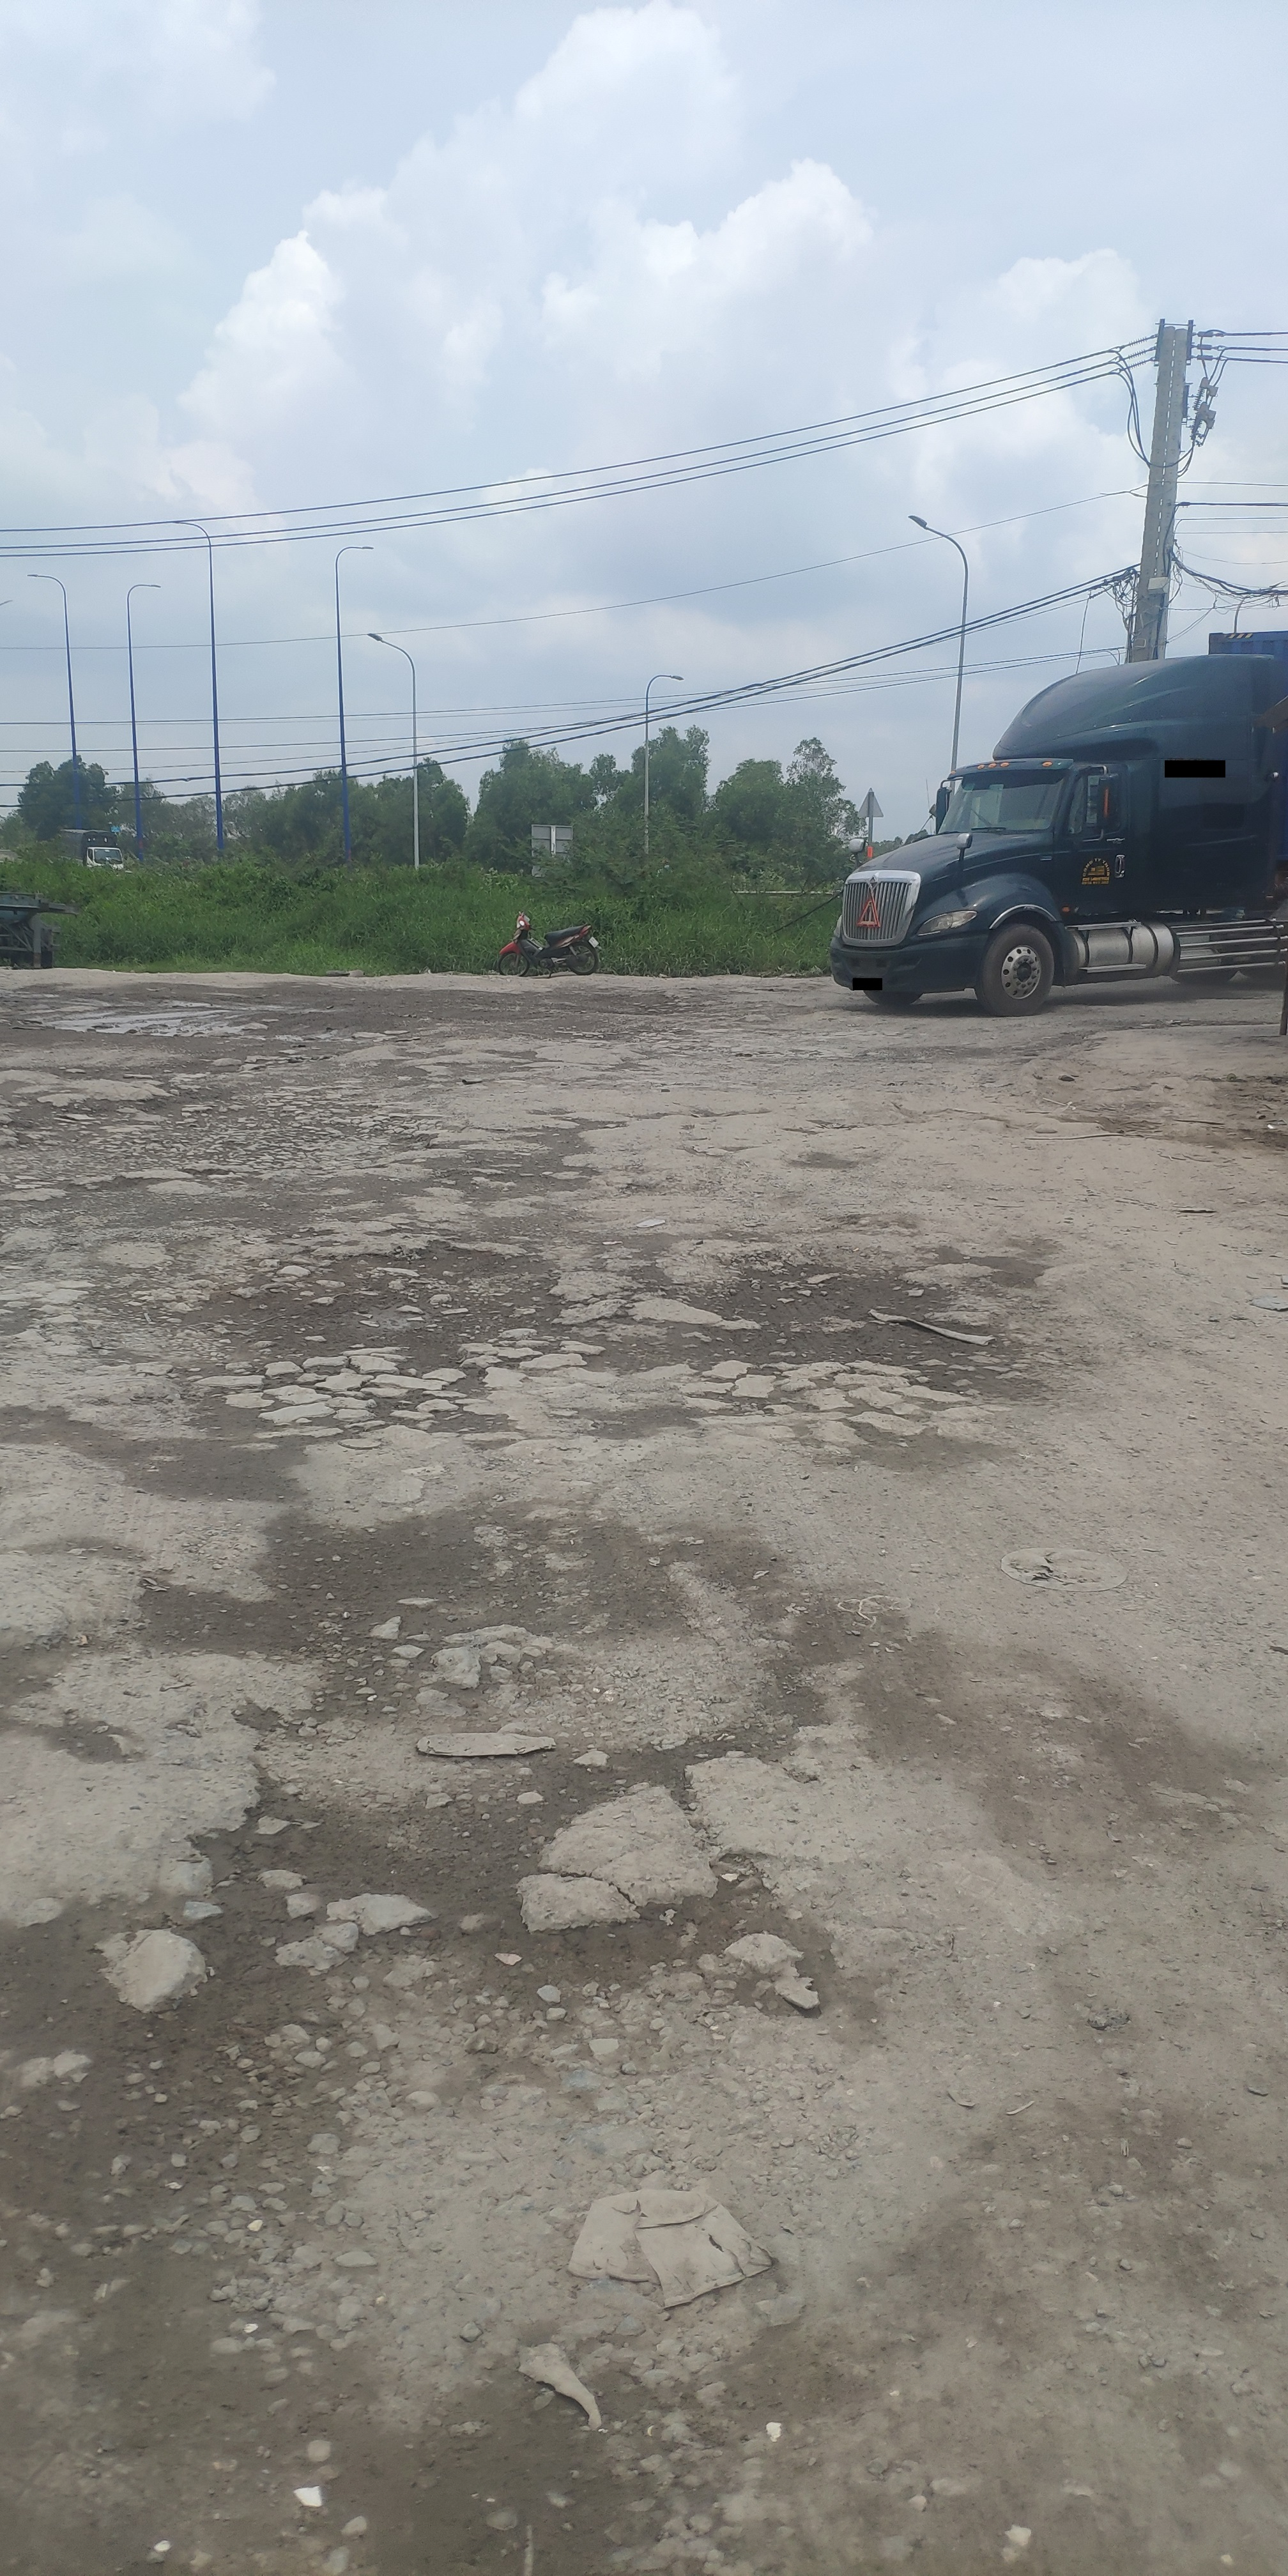hole: (87, 1843, 846, 2541), (230, 1490, 853, 1814), (153, 1226, 575, 1387), (0, 1083, 452, 1186), (670, 1240, 1012, 1377), (30, 989, 238, 1046), (468, 1119, 593, 1196), (618, 1158, 752, 1207), (789, 1097, 938, 1137), (547, 984, 690, 1020), (611, 1099, 772, 1129)
